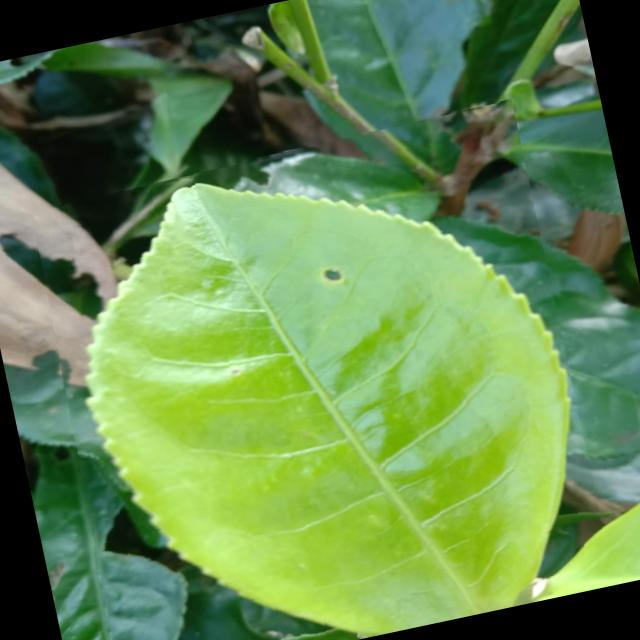Category B(2-4 days): (17, 98, 613, 640)
